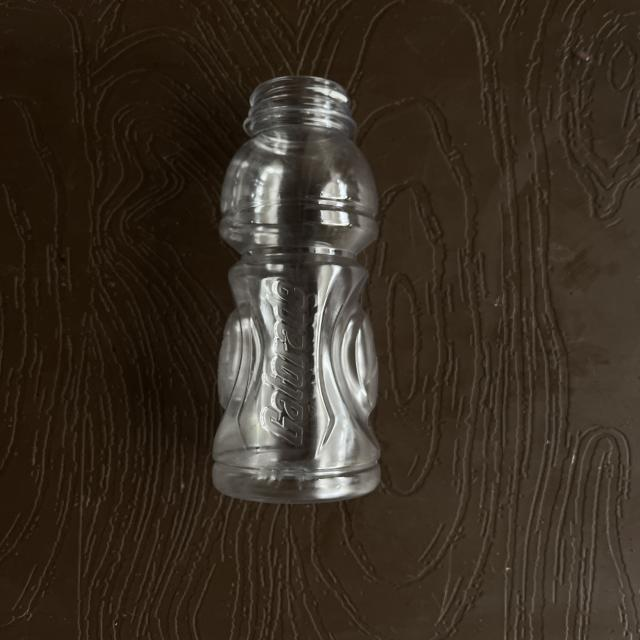PET_ClearBottle: (205, 76, 396, 498)
